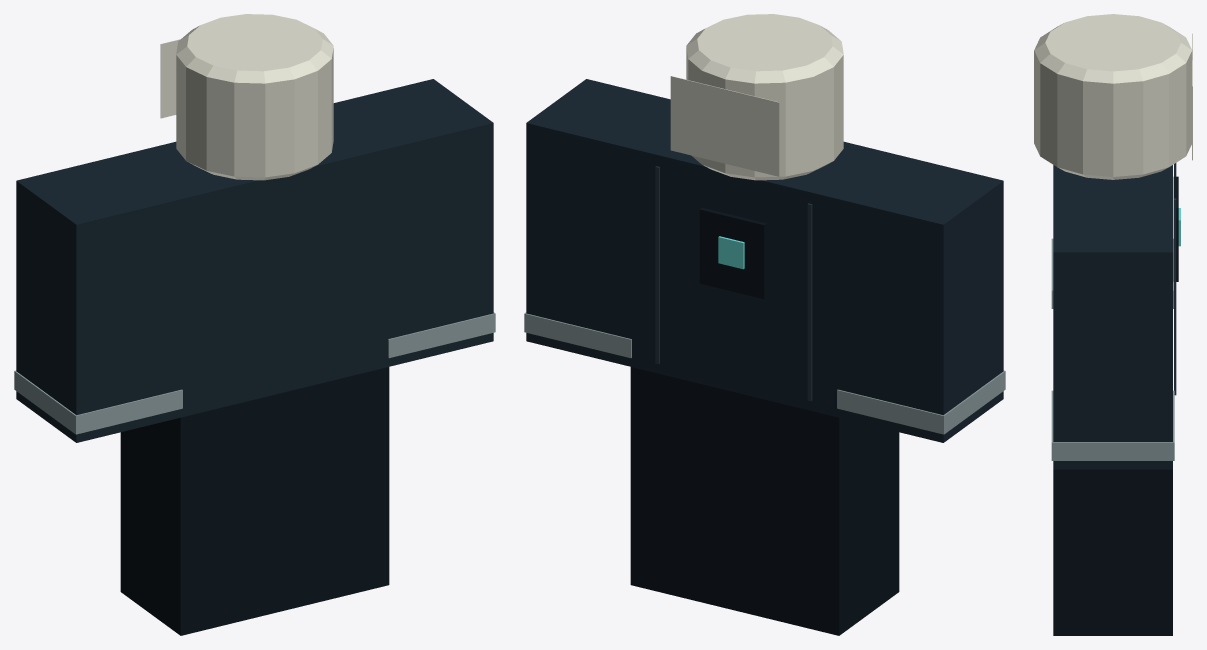
File: Unlisted.obj
3 renders of one model, left to right at view 1: azimuth 30°, elevation 25°; view 2: azimuth 150°, elevation 25°; view 3: azimuth 270°, elevation 25°, orthographic.
Parts seen in each view (by area): view 1: Torso, Left Arm, Left Leg, Right Arm, Head, Right Leg, Face; view 2: Torso, Left Arm, Left Leg, Right Arm, Right Leg, Head, Face; view 3: Right Arm, Head, Right Leg, Torso, Left Arm.
Part boxes in pixels (x1,y1,x2,y2): Torso: (121, 108, 389, 417); Left Arm: (14, 155, 182, 442); Left Leg: (120, 392, 284, 635); Right Arm: (333, 79, 495, 366); Head: (176, 14, 333, 180); Right Leg: (285, 367, 389, 610); Face: (160, 39, 180, 118); Torso: (630, 119, 898, 417); Left Arm: (837, 155, 1005, 442); Left Leg: (735, 392, 899, 635); Right Arm: (524, 79, 670, 366); Right Leg: (630, 367, 734, 610); Head: (686, 14, 843, 180); Face: (670, 76, 779, 176); Right Arm: (1051, 202, 1174, 469); Head: (1034, 14, 1192, 179); Right Leg: (1053, 469, 1172, 635); Torso: (1053, 163, 1180, 395); Left Arm: (1051, 238, 1173, 308).
Size of the model in its own units: 4.03 by 5 by 1.33.
